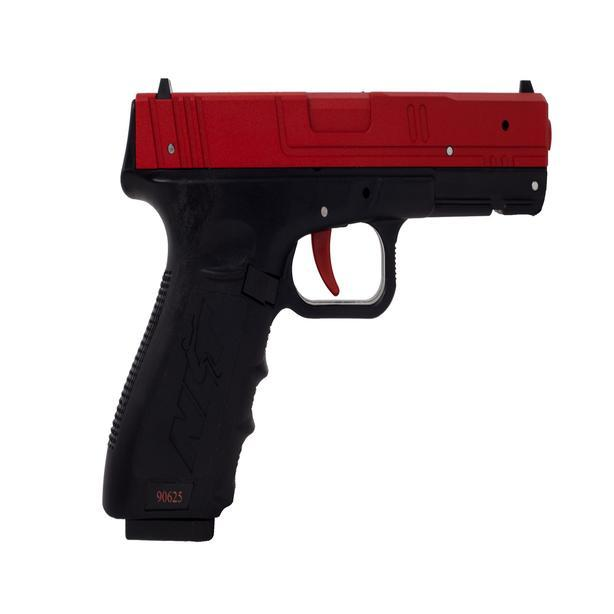Firearm: (104, 47, 568, 552)
